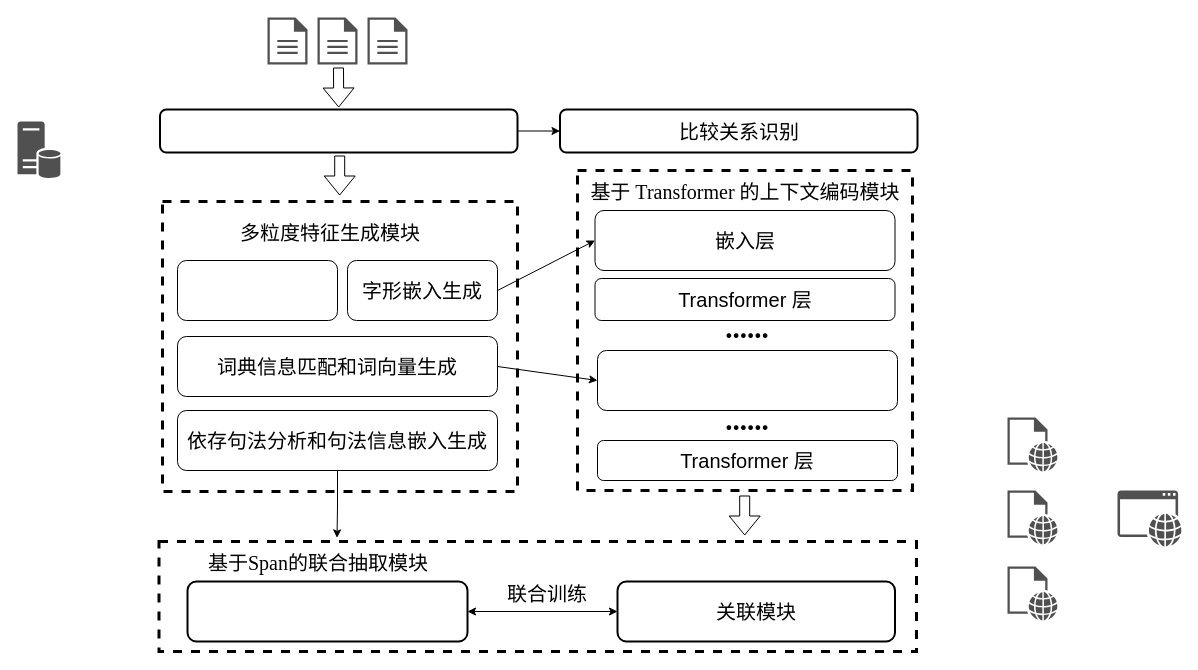
The diagram is 1198 pixels wide and 670 high, and some of its shapes have lost their labels. The shapes that lost their labels are listed below. From the top down, each one's centre as x and y in pixels, then its label:
At (x=338, y=130): "文本预处理".
At (x=257, y=290): "拼音嵌入生成".
At (x=747, y=380): "基于注意力机制的词典信息融合".
At (x=327, y=611): "识别模块".
